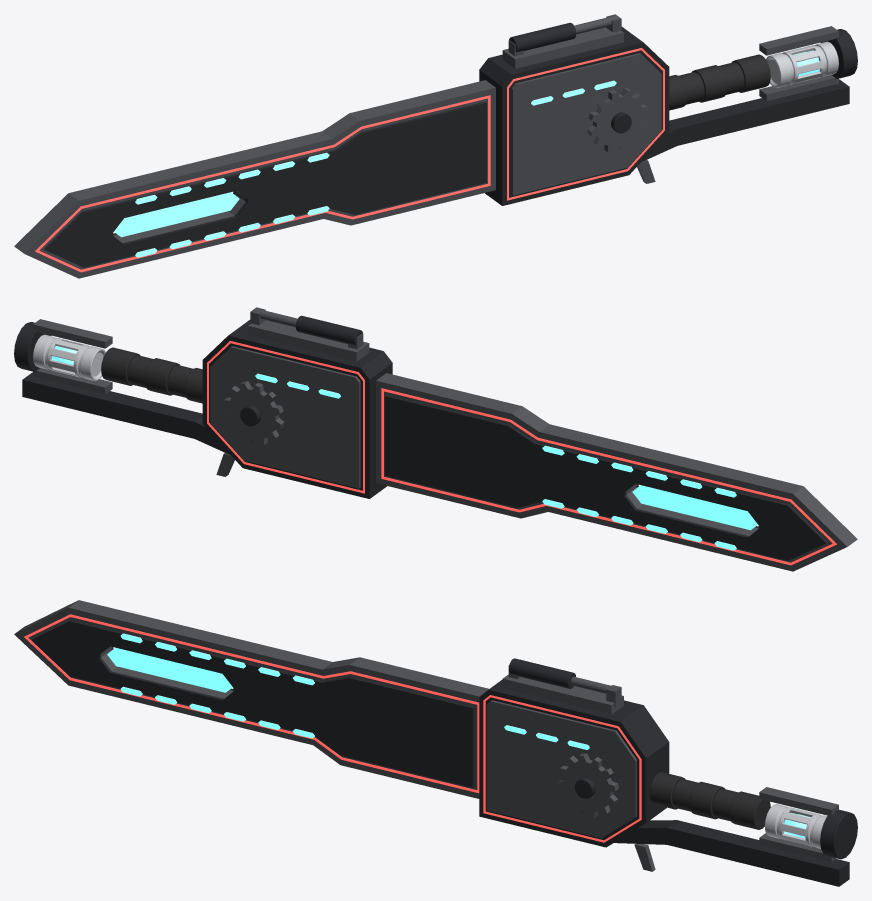
File: arma_03.glb
3 renders of one model, top to bottom at view 1: azimuth 30°, elevation 25°; view 2: azimuth 150°, elevation 25°; view 3: azimuth 330°, elevation 25°, orthographic.
Visible parts, largest first — view 1: Placa_hoja_glb, Hoja_glb, Placa_cuerpo_glb, Cuerpo_glb, Bastidor_glb, Linea_roja_glb, Engranaje_glb, Luz_ventana_glb, Celda_06_glb, Riel_glb, Linea_roja_cuerpo_glb, Barra_0.13_glb (+10 smaller); view 2: Placa_hoja_glb, Hoja_glb, Placa_cuerpo_glb, Cuerpo_glb, Bastidor_glb, Linea_roja_glb, Engranaje_glb, Luz_ventana_glb, Celda_06_glb, Riel_glb, Linea_roja_cuerpo_glb, Barra_0.13_glb (+10 smaller); view 3: Placa_hoja_glb, Hoja_glb, Placa_cuerpo_glb, Cuerpo_glb, Bastidor_glb, Linea_roja_glb, Engranaje_glb, Luz_ventana_glb, Riel_glb, Celda_06_glb, Tapa_glb, Linea_roja_cuerpo_glb (+10 smaller).
Part boxes in pixels (x1,y1,x2,y2): Placa_hoja_glb: [44, 102, 486, 267]; Hoja_glb: [14, 80, 495, 278]; Placa_cuerpo_glb: [511, 53, 661, 195]; Cuerpo_glb: [479, 27, 669, 205]; Bastidor_glb: [641, 79, 849, 162]; Linea_roja_glb: [35, 95, 490, 272]; Engranaje_glb: [587, 88, 648, 152]; Luz_ventana_glb: [114, 192, 239, 237]; Celda_06_glb: [766, 41, 838, 88]; Riel_glb: [502, 27, 623, 68]; Linea_roja_cuerpo_glb: [507, 48, 664, 200]; Barra_0.13_glb: [759, 26, 838, 55]; Placa_hoja_glb: [385, 395, 827, 560]; Hoja_glb: [376, 373, 857, 571]; Placa_cuerpo_glb: [210, 346, 360, 488]; Cuerpo_glb: [202, 320, 392, 498]; Bastidor_glb: [22, 372, 230, 455]; Linea_roja_glb: [381, 388, 836, 565]; Engranaje_glb: [223, 381, 284, 445]; Luz_ventana_glb: [632, 485, 757, 530]; Celda_06_glb: [33, 334, 105, 381]; Riel_glb: [248, 320, 369, 361]; Linea_roja_cuerpo_glb: [207, 341, 364, 493]; Barra_0.13_glb: [33, 319, 112, 348]; Placa_hoja_glb: [31, 620, 474, 787]; Hoja_glb: [14, 600, 488, 798]; Placa_cuerpo_glb: [486, 700, 636, 838]; Cuerpo_glb: [479, 679, 669, 847]; Bastidor_glb: [614, 820, 849, 886]; Linea_roja_glb: [24, 614, 479, 793]; Engranaje_glb: [557, 753, 618, 818]; Luz_ventana_glb: [107, 647, 232, 692]; Riel_glb: [502, 674, 623, 714]; Celda_06_glb: [764, 804, 827, 848]; Tapa_glb: [820, 809, 857, 859]; Linea_roja_cuerpo_glb: [483, 695, 641, 842].
Size of the model in its own units: 4.56 by 0.935 by 0.38.
